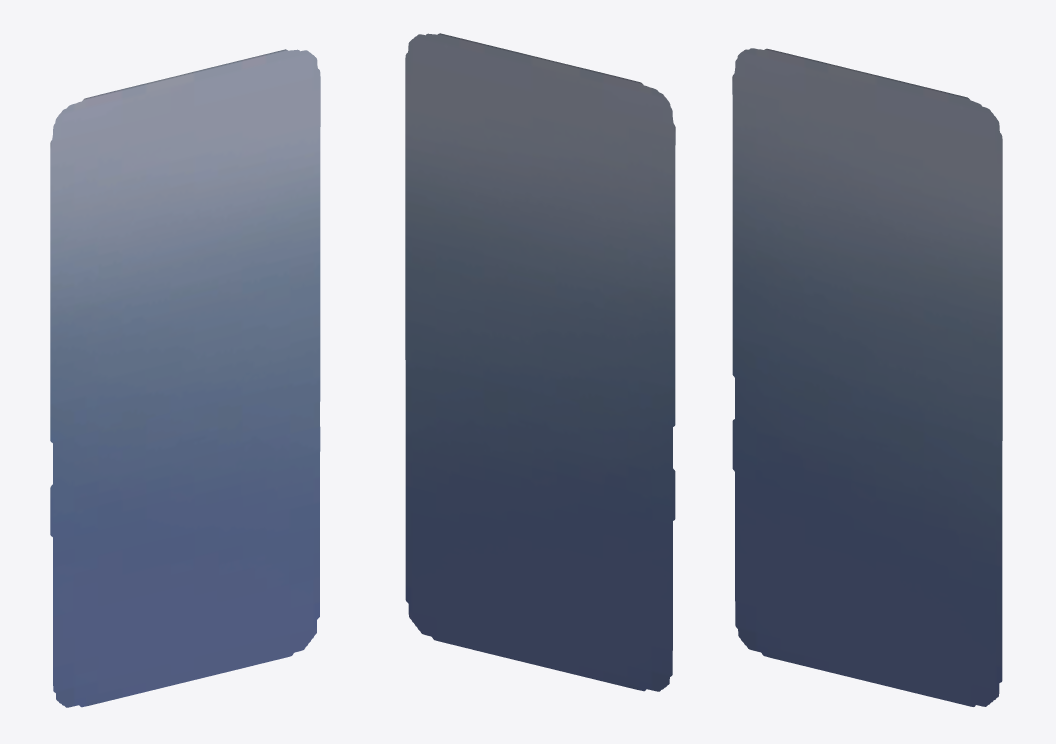
The model's file is Player_Maid_Tingyun_LookAtPhone_00.fbx.
3 renders of one model, left to right at view 1: azimuth 30°, elevation 25°; view 2: azimuth 150°, elevation 25°; view 3: azimuth 330°, elevation 25°, orthographic.
Visible parts, largest first — view 1: LookAtPhone_00_Phone_Model; view 2: LookAtPhone_00_Phone_Model; view 3: LookAtPhone_00_Phone_Model.
Boxes of the visible parts, x1,y1,x2,y2 form: LookAtPhone_00_Phone_Model: (50, 49, 320, 707); LookAtPhone_00_Phone_Model: (405, 33, 675, 691); LookAtPhone_00_Phone_Model: (732, 48, 1002, 706).
Size of the model in its own units: 0.066 by 0.1328 by 0.0081.
Materials: 1 (1 with a texture image).
